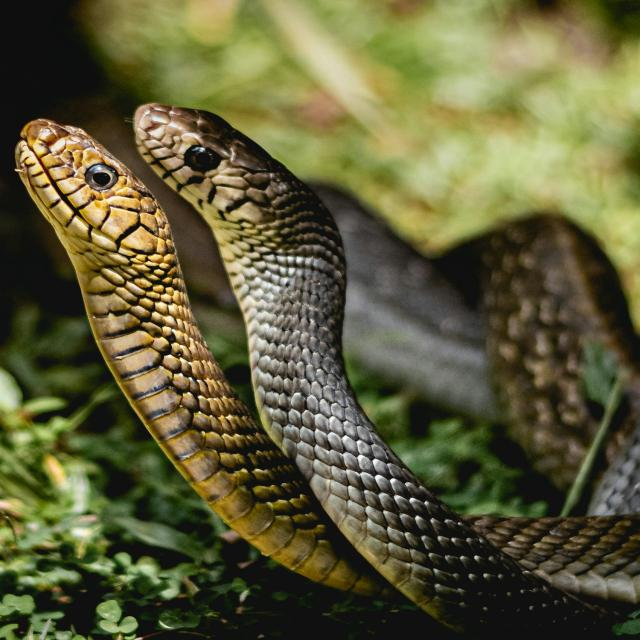Snake: (12, 99, 639, 640)
